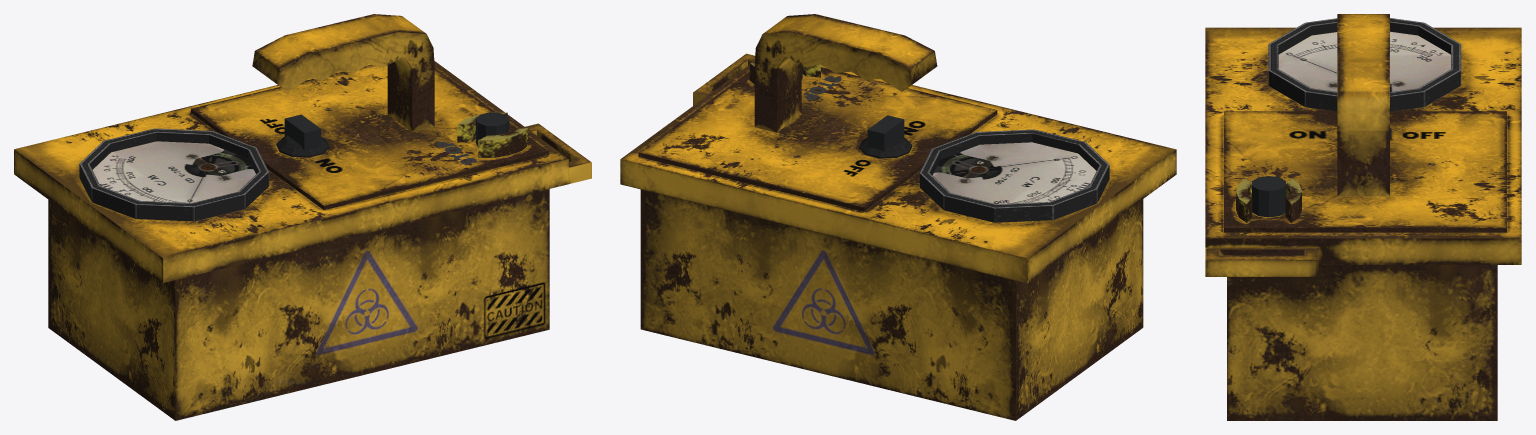
Rendered from Low_Poly_Geiger_Model_03.fbx.
The picture shows the model from 3 angles, left to right: view 1: azimuth 30°, elevation 25°; view 2: azimuth 150°, elevation 25°; view 3: azimuth 270°, elevation 25°; orthographic projection. The views are drawn at different scales.
Visible parts, largest first — view 1: Low_Poly; view 2: Low_Poly; view 3: Low_Poly.
Part boxes in pixels (x1,y1,x2,y2): Low_Poly: [14, 14, 591, 420]; Low_Poly: [620, 14, 1176, 420]; Low_Poly: [1205, 14, 1521, 420].
Bounding box in the file's own units: 0.2206 × 0.1396 × 0.1325.
